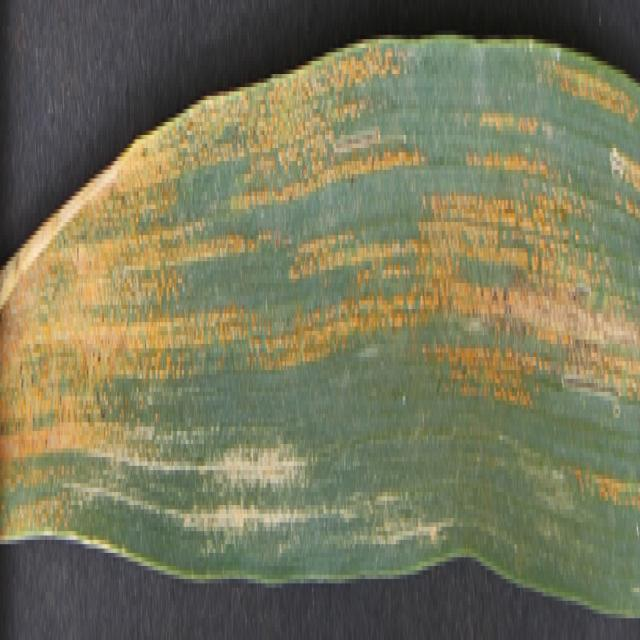leaf rust: (11, 65, 636, 540)
